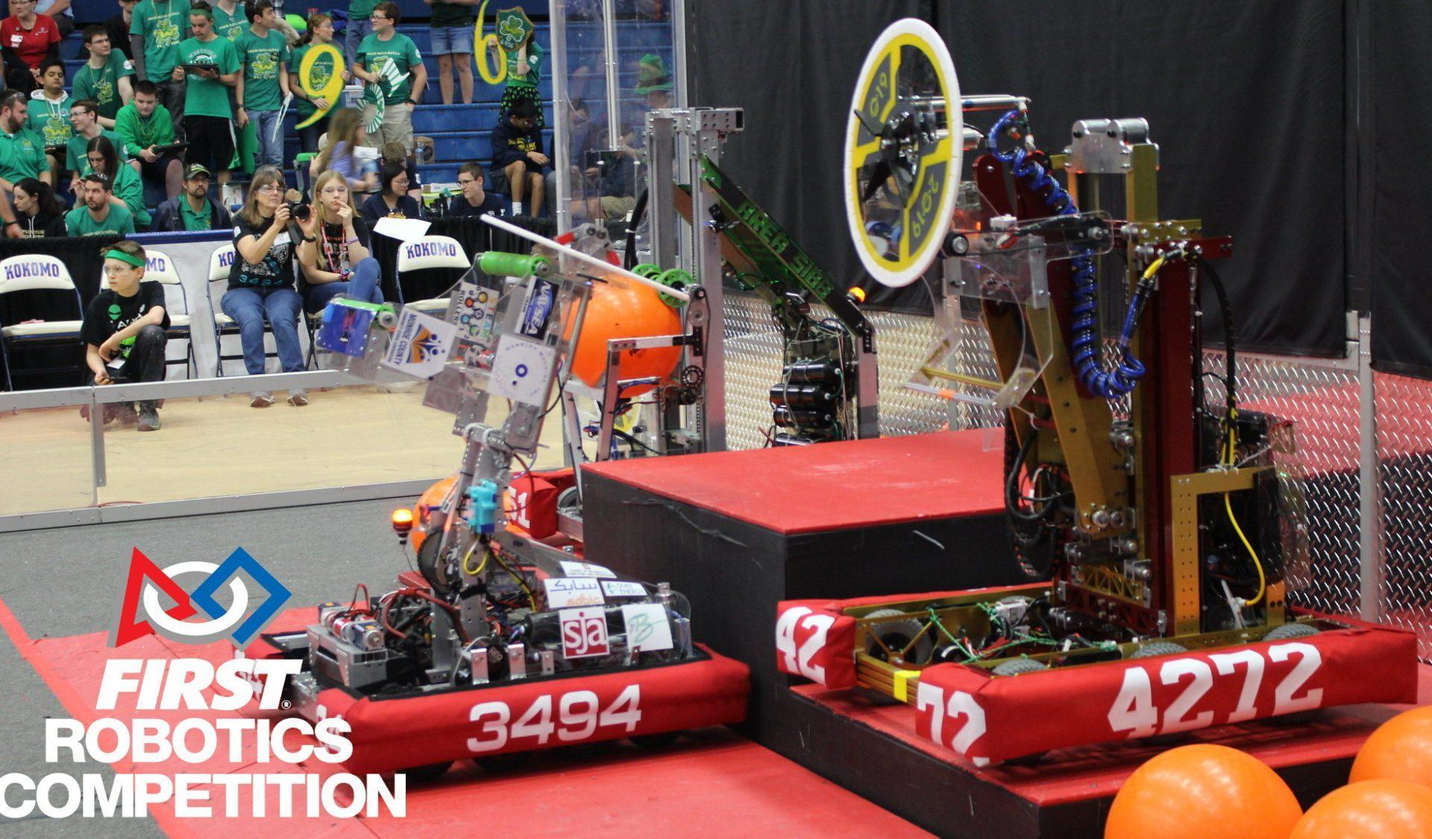robot: (731, 0, 1428, 748), (223, 245, 763, 789), (496, 80, 893, 561)
